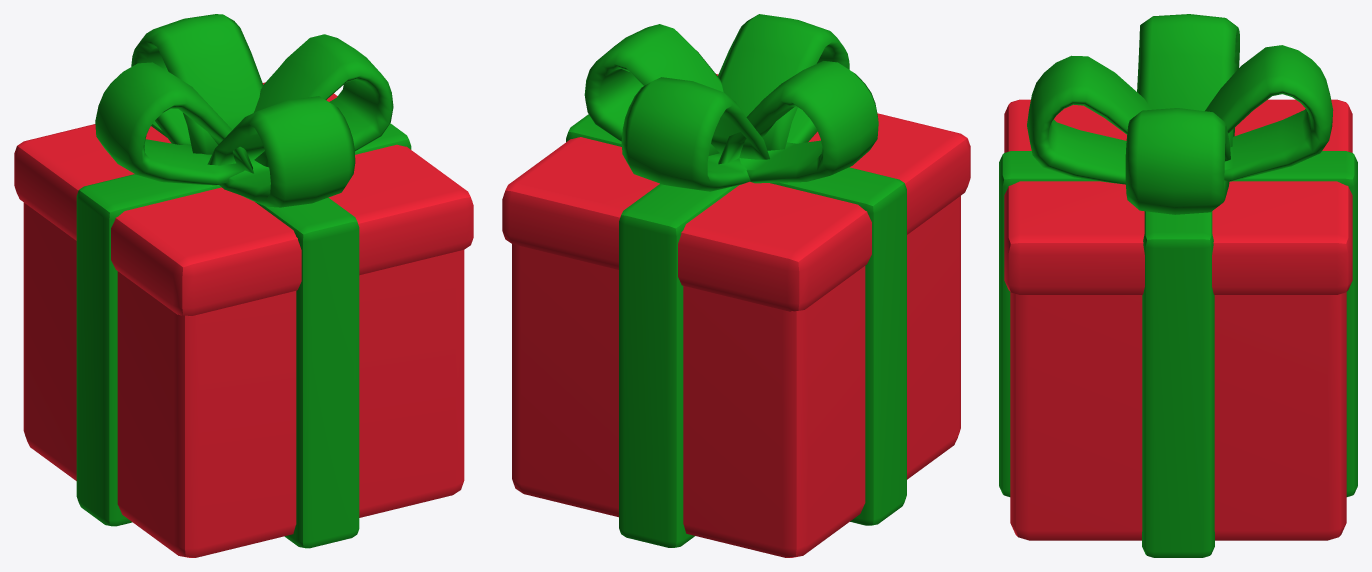
The model's file is Giftbox_red.fbx.
3 views of the same model, side by side, from view 1: azimuth 30°, elevation 25°; view 2: azimuth 150°, elevation 25°; view 3: azimuth 270°, elevation 25° (orthographic).
Parts seen in each view (by area): view 1: Giftbox_red; view 2: Giftbox_red; view 3: Giftbox_red.
Boxes of the visible parts, <box> form: Giftbox_red: <box>14,14,473,557</box>; Giftbox_red: <box>502,14,970,557</box>; Giftbox_red: <box>999,14,1357,557</box>.
Bounding box in the file's own units: 30.69 × 40.54 × 30.69.
